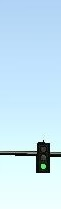Green: (35, 141, 51, 174)
